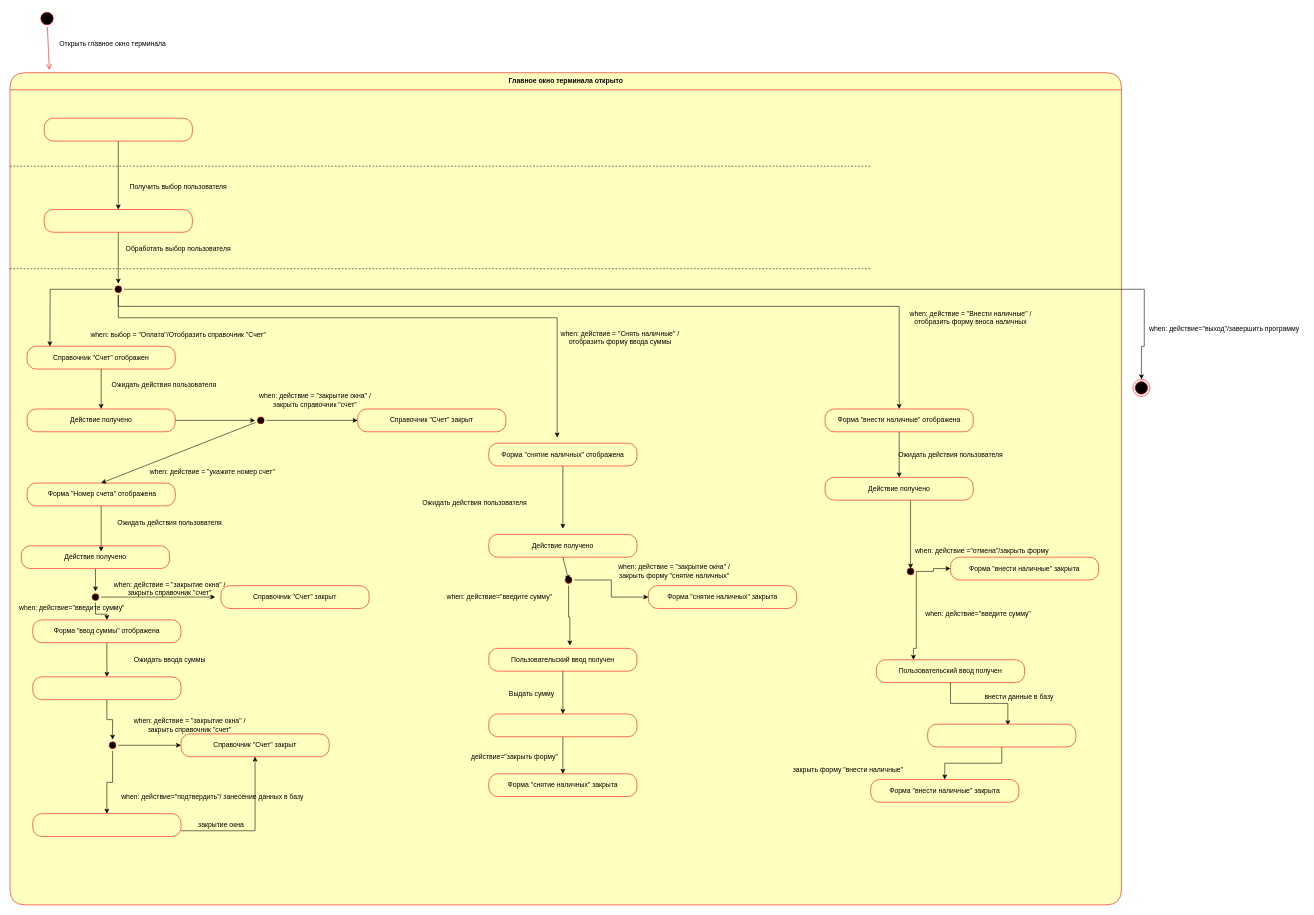
Image size: 1314x915. Some labels were removed from this diagram. The shapes that lost their labels are listed below. From the top down, each one's centre as x and y in pixels, then its label:
(118,129): Главное меню терминала отображено
(118,220): Выбор пользователя получен
(106,688): Сумма получена
(562,725): Сумма выдана
(1001,735): Данные в базу внесены
(106,824): Данные в базу занесены
